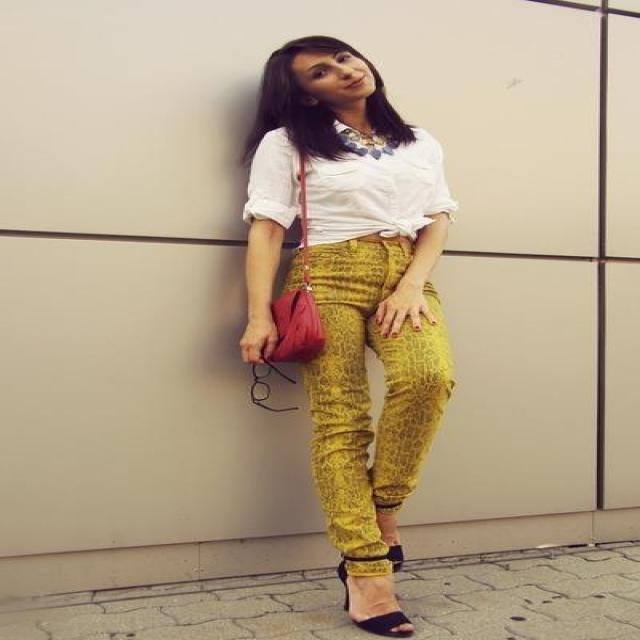bag: (243, 166, 323, 396)
pants: (293, 218, 453, 584)
shirt: (243, 128, 456, 258)
shoe: (338, 545, 402, 637)
